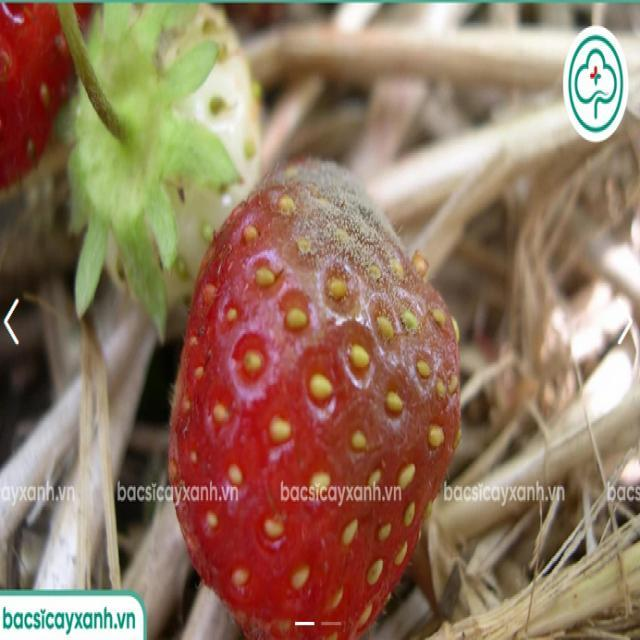Moho gris: (166, 154, 458, 626)
